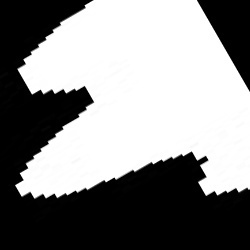spot: (17, 1, 249, 199)
